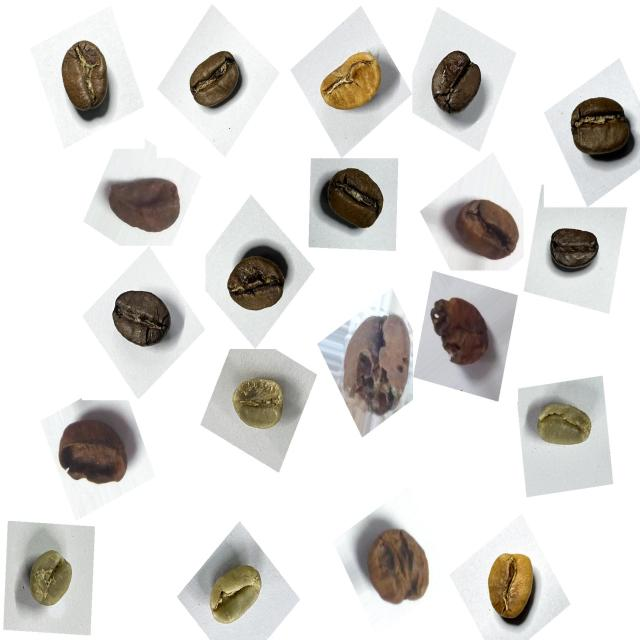bad: (331, 306, 418, 423), (50, 398, 141, 500), (356, 519, 442, 619), (101, 162, 188, 248), (428, 290, 503, 383), (445, 186, 526, 271)
dark: (105, 278, 181, 361), (422, 39, 492, 126), (543, 215, 609, 288)
green: (199, 551, 273, 638), (222, 364, 295, 444), (16, 540, 84, 624), (528, 390, 602, 463)
light: (474, 540, 545, 635), (313, 40, 391, 124)
medium: (49, 30, 122, 126), (316, 161, 394, 246), (562, 87, 639, 173), (216, 241, 294, 325), (180, 43, 248, 122)
